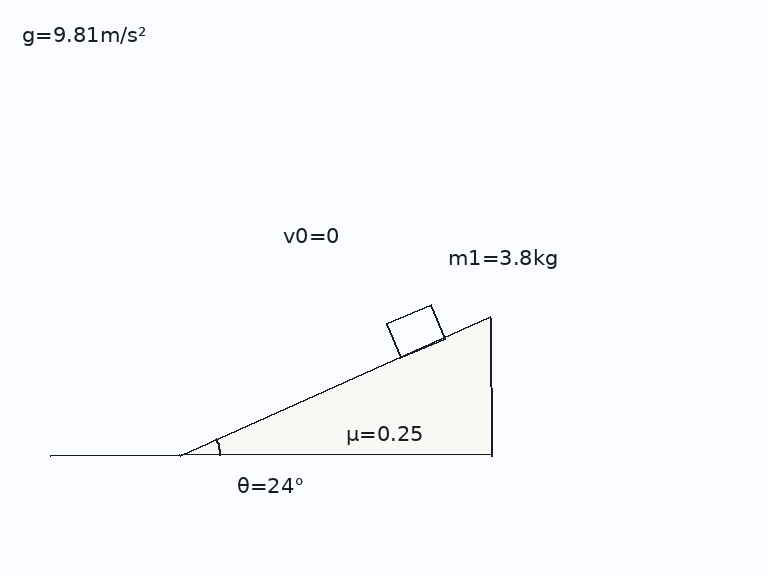block: (384, 302, 447, 359)
ramp: (178, 315, 493, 457)
